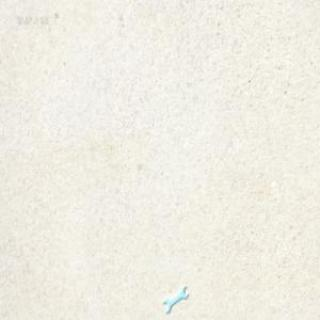Wrenchtrack_idkeyframe: (163, 282, 189, 312)
